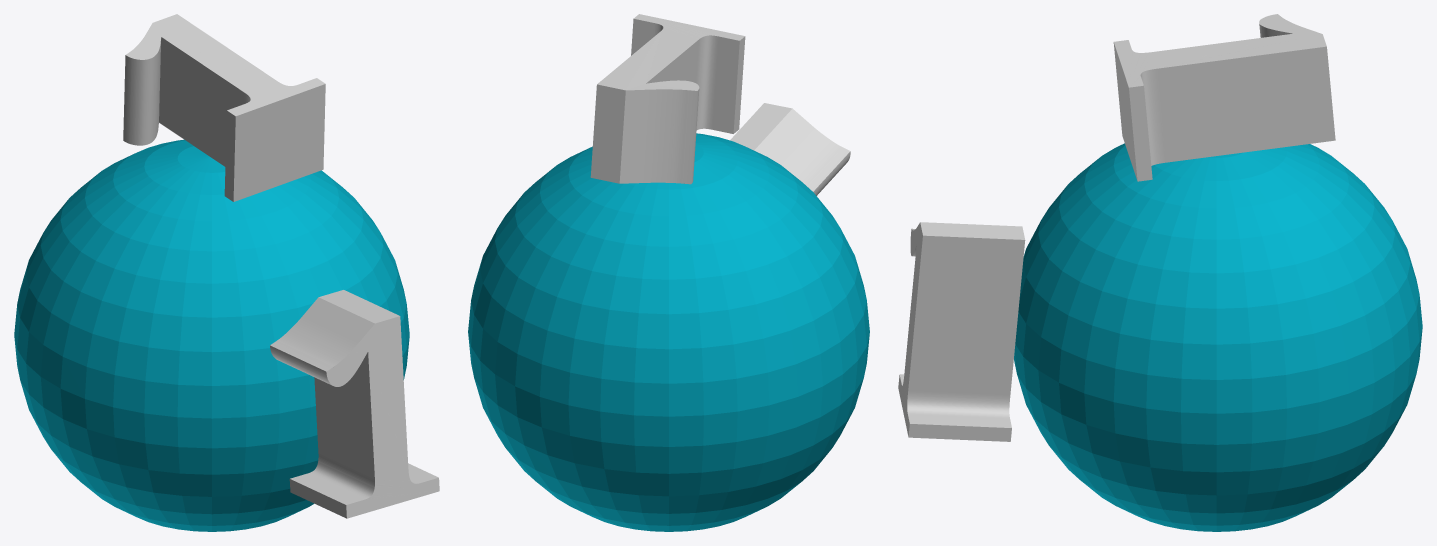
File: number1.glb
3 renders of one model, left to right at view 1: azimuth 30°, elevation 25°; view 2: azimuth 150°, elevation 25°; view 3: azimuth 270°, elevation 25°, orthographic. The views are drawn at different scales.
Visible parts, largest first — view 1: Mesh_Mesh_head_geo.001_lambert2SG.001; view 2: Mesh_Mesh_head_geo.001_lambert2SG.001; view 3: Mesh_Mesh_head_geo.001_lambert2SG.001.
Boxes of the visible parts, left/top/right/bottom form: Mesh_Mesh_head_geo.001_lambert2SG.001: left=14, top=14, right=439, bottom=531; Mesh_Mesh_head_geo.001_lambert2SG.001: left=468, top=14, right=869, bottom=531; Mesh_Mesh_head_geo.001_lambert2SG.001: left=898, top=14, right=1422, bottom=531.
Size of the model in its own units: 40 by 50.99 by 50.92.
